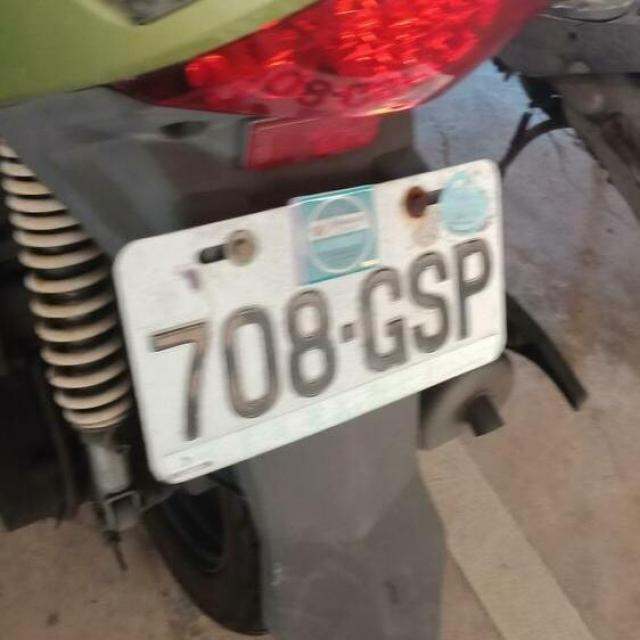W: (78, 126, 538, 498)
